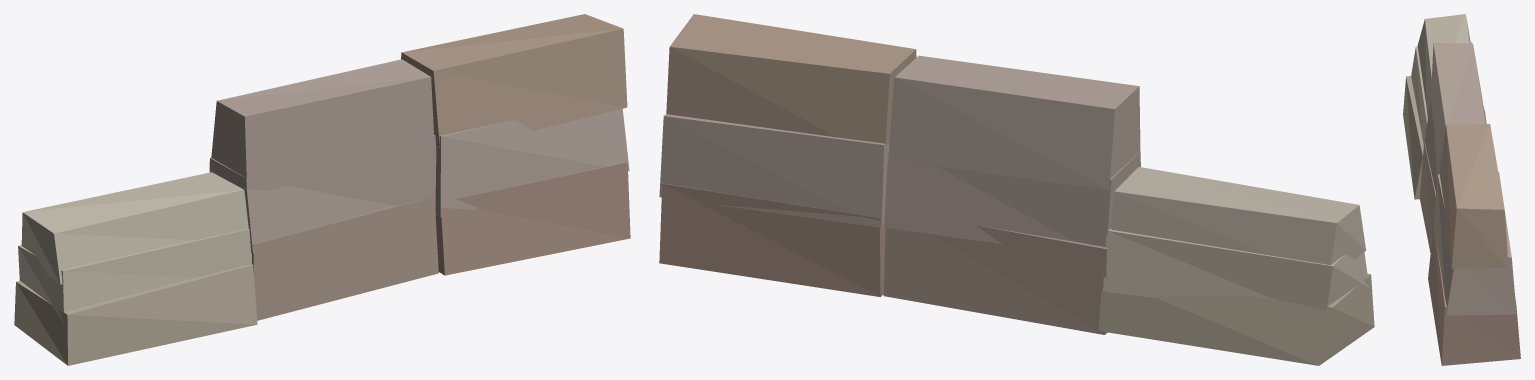
File: farm_-2_5_mid.glb
3 views of the same model, side by side, from view 1: azimuth 30°, elevation 25°; view 2: azimuth 150°, elevation 25°; view 3: azimuth 270°, elevation 25° (orthographic). The views are drawn at different scales.
Visible parts, largest first — view 1: geometry_0; view 2: geometry_0; view 3: geometry_0.
Part boxes in pixels (x1,y1,x2,y2): geometry_0: (14, 14, 630, 365); geometry_0: (659, 14, 1374, 365); geometry_0: (1403, 14, 1520, 365).
Bounding box in the file's own units: 4.68 × 1.66 × 1.02.
